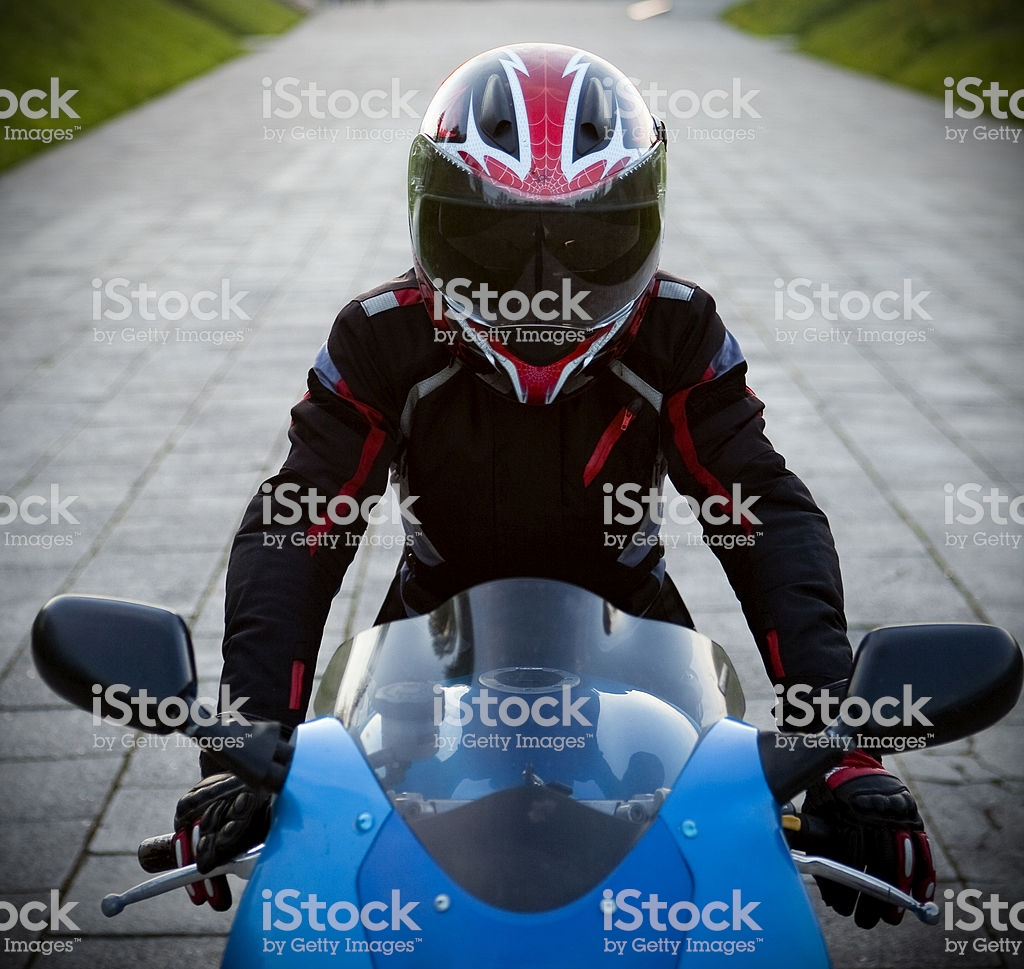helmet: (388, 45, 660, 357)
